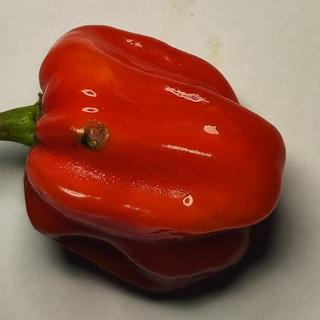Defect: (76, 116, 114, 155)
